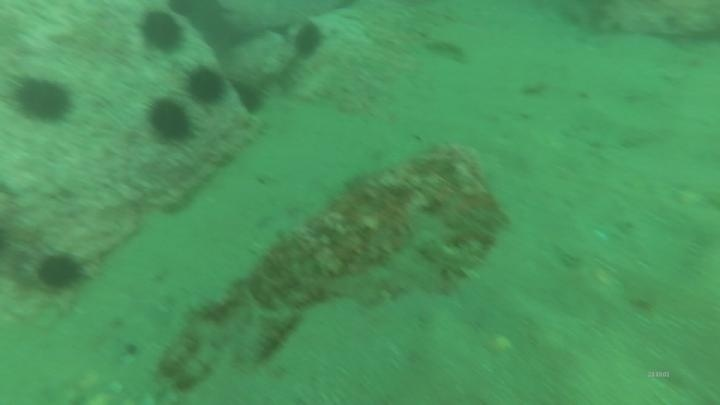echinus: (10, 73, 76, 127), (145, 96, 196, 145), (137, 8, 188, 56), (34, 250, 86, 294), (183, 63, 228, 108), (290, 20, 326, 61), (231, 79, 268, 117)
holothurian: (417, 231, 499, 286), (204, 113, 271, 170)
